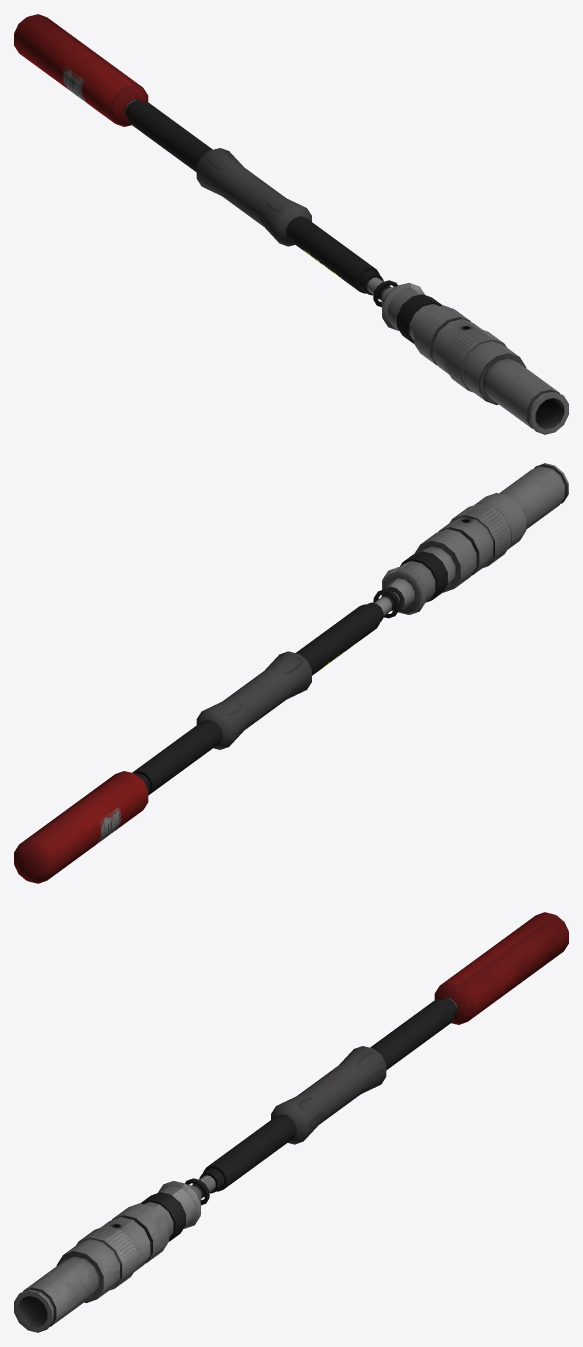
File: Bangstick.FBX
3 views of the same model, one above another, from view 1: azimuth 30°, elevation 25°; view 2: azimuth 150°, elevation 25°; view 3: azimuth 330°, elevation 25° (orthographic).
Visible parts, largest first — view 1: Stick; view 2: Stick; view 3: Stick.
Part boxes in pixels (<box>): Stick: <box>14,14,568,434</box>; Stick: <box>14,463,568,883</box>; Stick: <box>14,912,568,1332</box>.
Bounding box in the file's own units: 2.61 × 2.61 × 47.27.
Materials: 1 (1 with a texture image).
